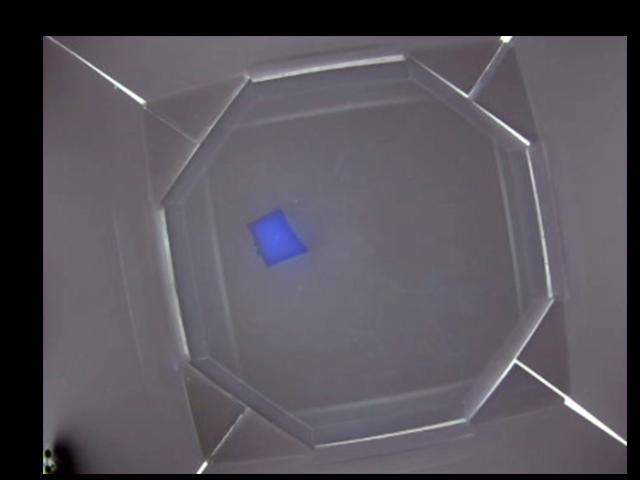Potato: (250, 210, 306, 270)
